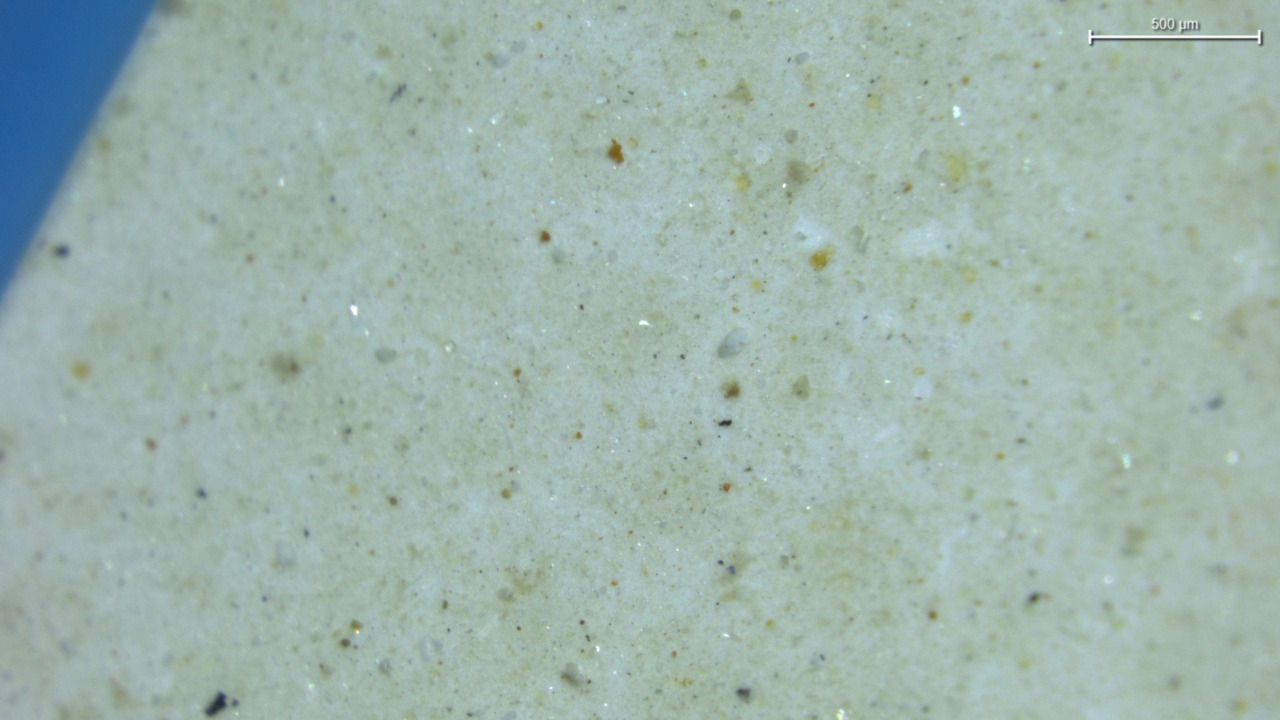microplastic_fragment: (717, 328, 748, 359)
